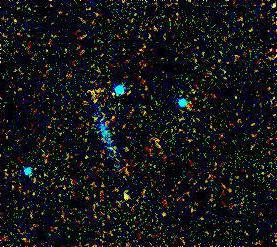star: (98, 79, 128, 109)
